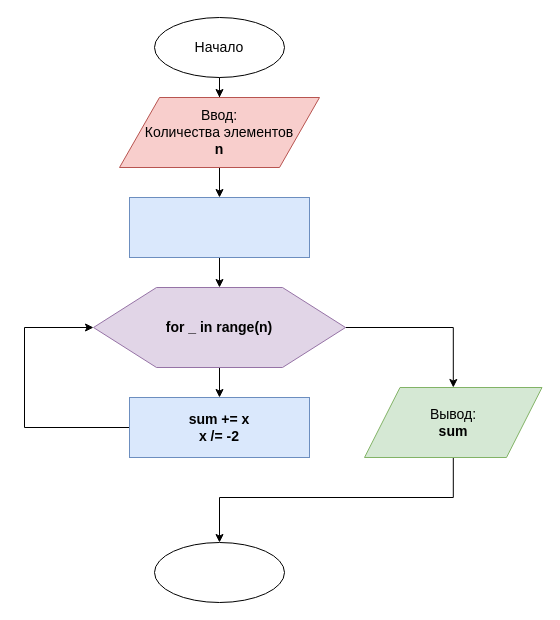
Image size: 560x620. Some labels were removed from this diagram. The box of each missing label's shape, as (x1, y1, x2, y2) in pixels:
x = 1 sum = 0: (128, 196, 310, 258)
Конец: (154, 542, 284, 602)
